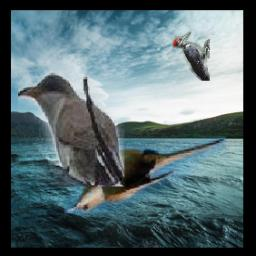Cuckoo: (64, 137, 226, 214), (19, 71, 125, 187)
Woodpecker: (173, 32, 211, 82)
